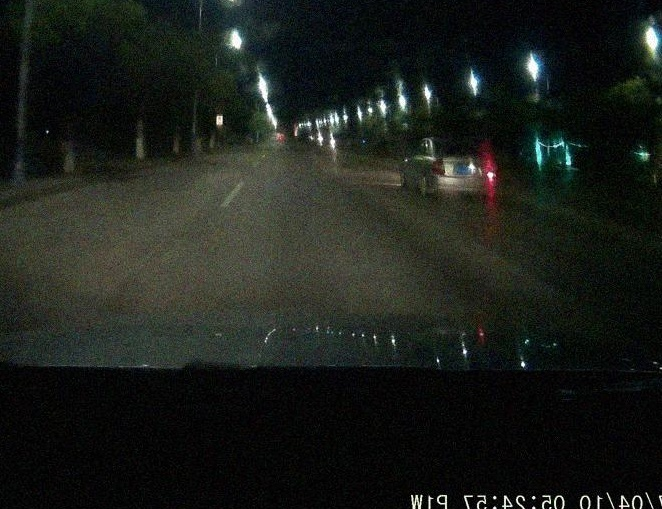L_light: (431, 157, 445, 175)
R_light: (482, 160, 495, 178)
T_light: (453, 143, 465, 146)
night-right: (431, 141, 495, 200)
